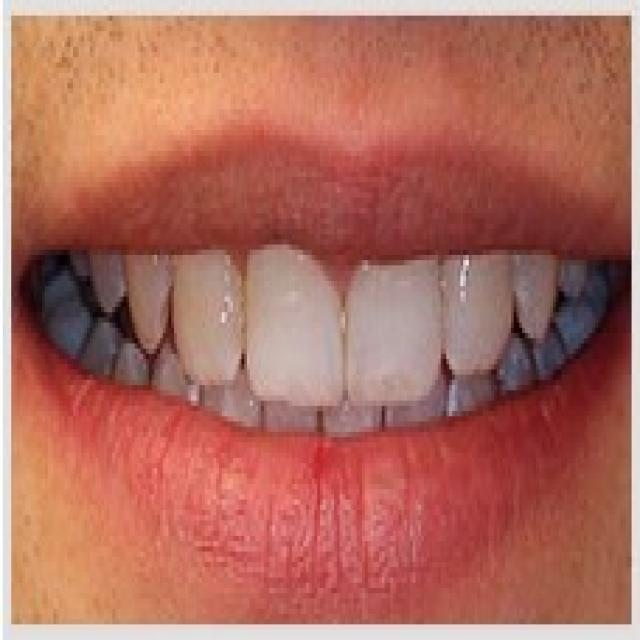tooth: (247, 244, 345, 406), (348, 250, 446, 400), (171, 234, 247, 390), (446, 266, 511, 364), (121, 234, 171, 354)
